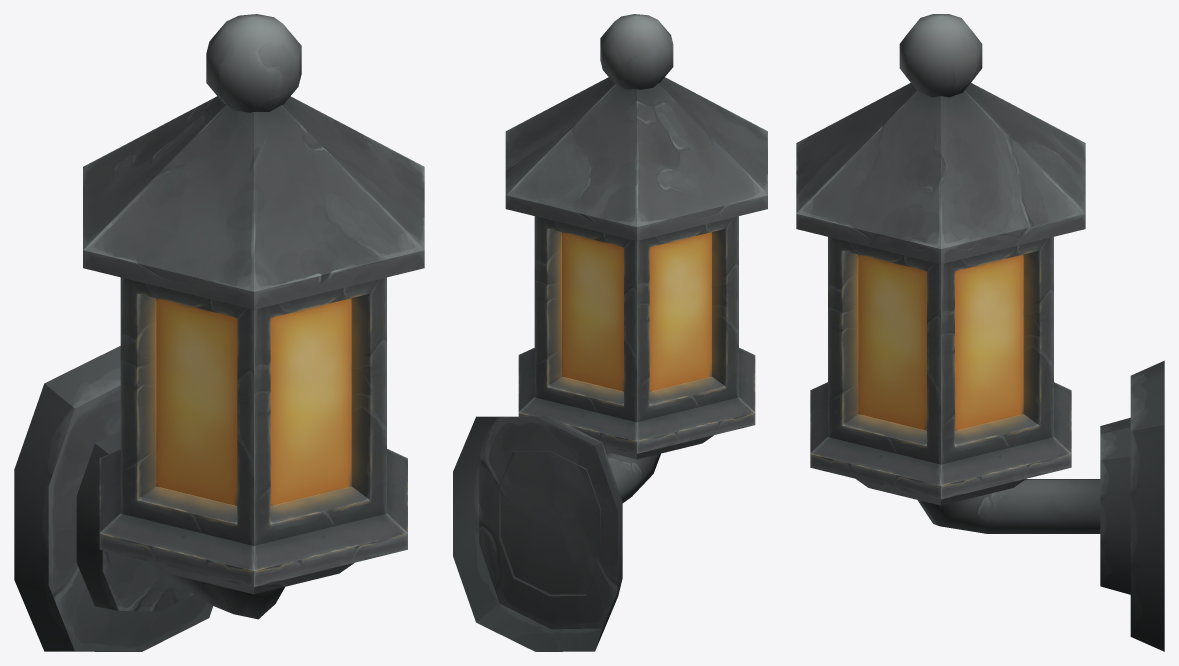
The model's file is Lighter.FBX.
3 views of the same model, side by side, from view 1: azimuth 30°, elevation 25°; view 2: azimuth 150°, elevation 25°; view 3: azimuth 270°, elevation 25° (orthographic). The views are drawn at different scales.
Visible parts, largest first — view 1: Lighter; view 2: Lighter; view 3: Lighter.
Boxes of the visible parts, x1,y1,x2,y2 form: Lighter: (14, 14, 424, 651); Lighter: (453, 14, 767, 651); Lighter: (796, 14, 1164, 651).
Size of the model in its own units: 420 by 858 by 462.
